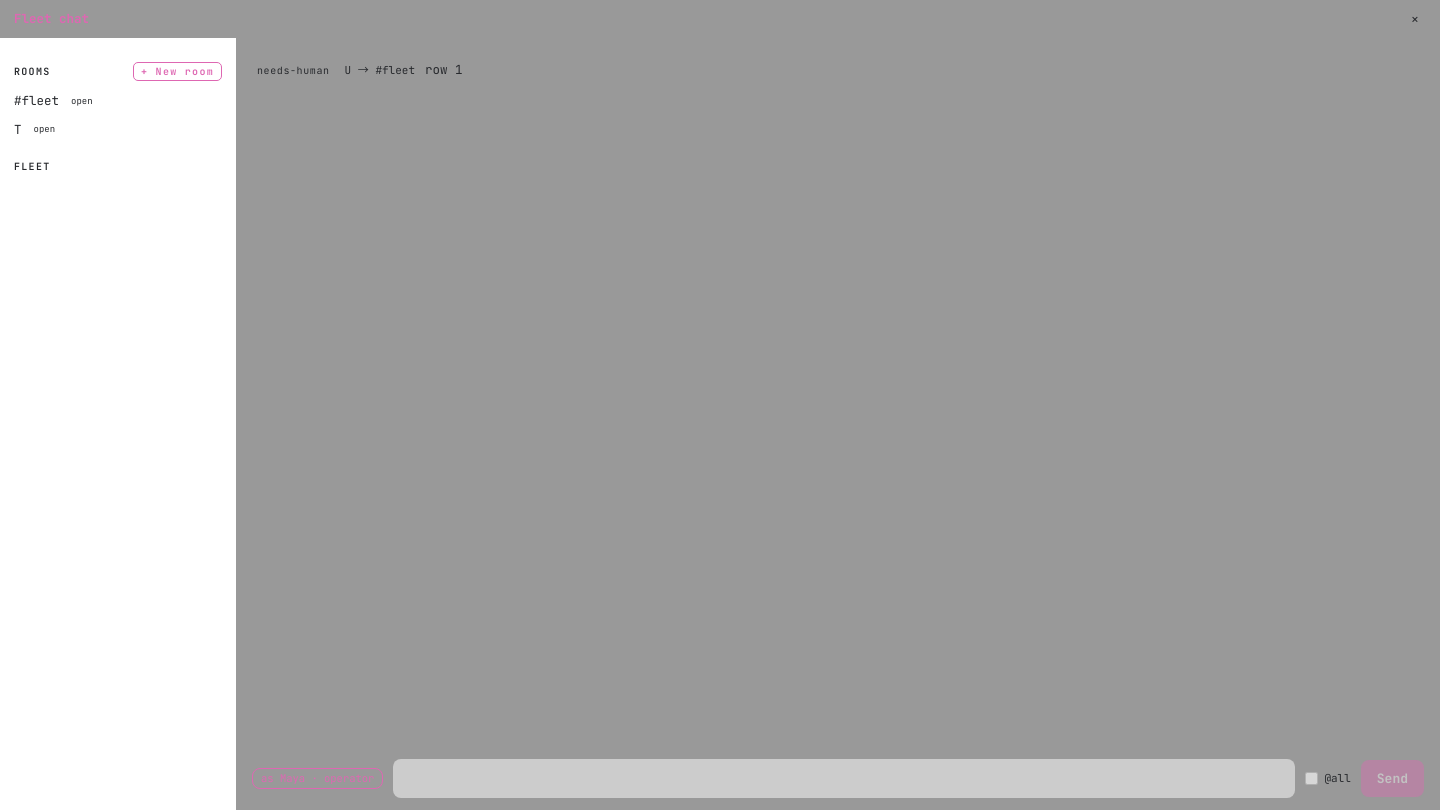
it: ChatroomPane — HED-74c operator composer + room management wiring › switching rooms clears a pending reply-to context
The width and height of the screenshot is (1440, 810).
Check: the element with test id "comms-rail" is shown, box [0,38,236,809]
What coordinates should you click on to do the following:
click the list item with test id "comms-needs-row-1"
I would click on:
 (360, 70)
Its box is [257,61,462,78].
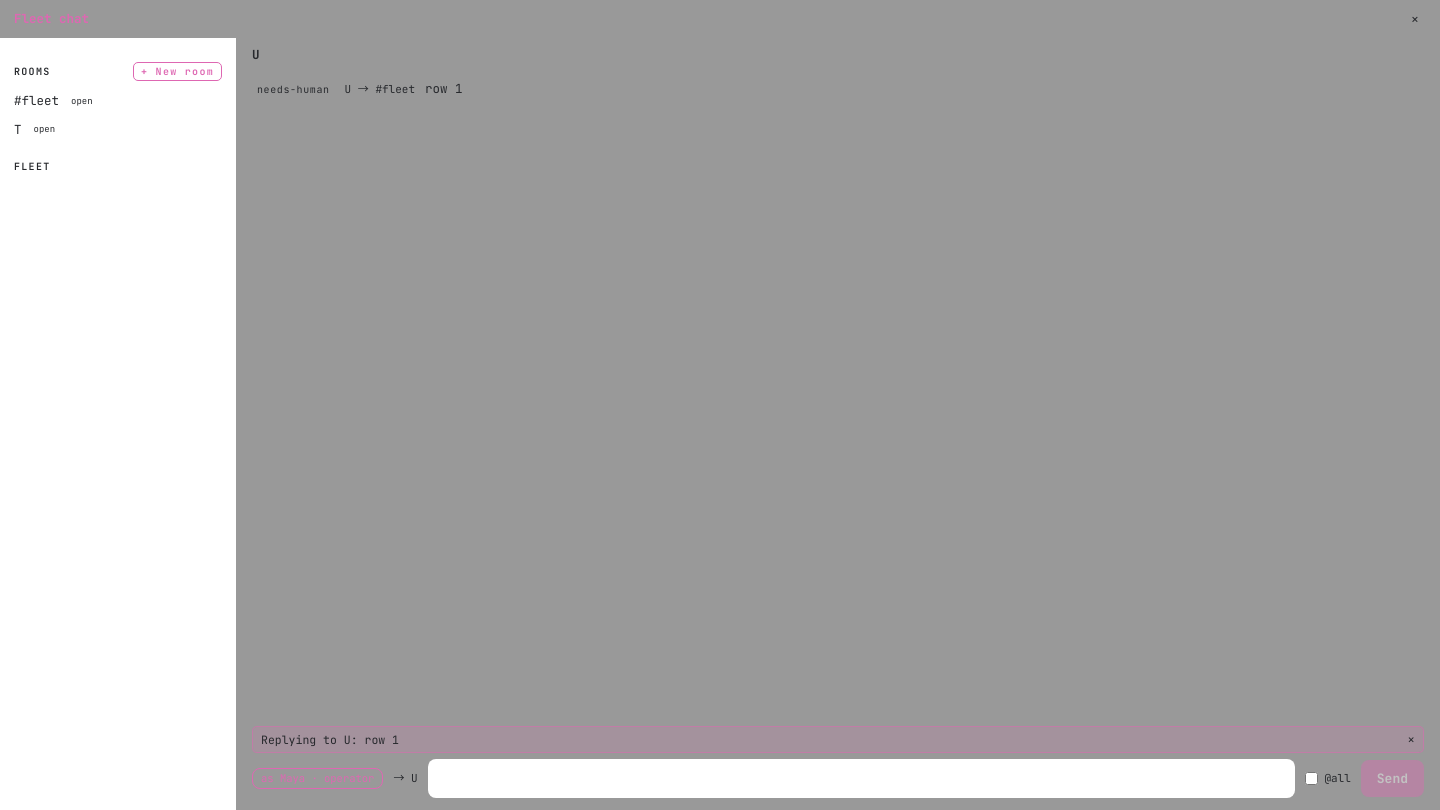
Check: the element with test id "comms-reply-ctx" is shown, box [252,726,1424,753]
What coordinates should you click on to do the following:
click the button with test id "comms-room-T"
I would click on:
 (35, 129)
Its box is [14,121,55,138].
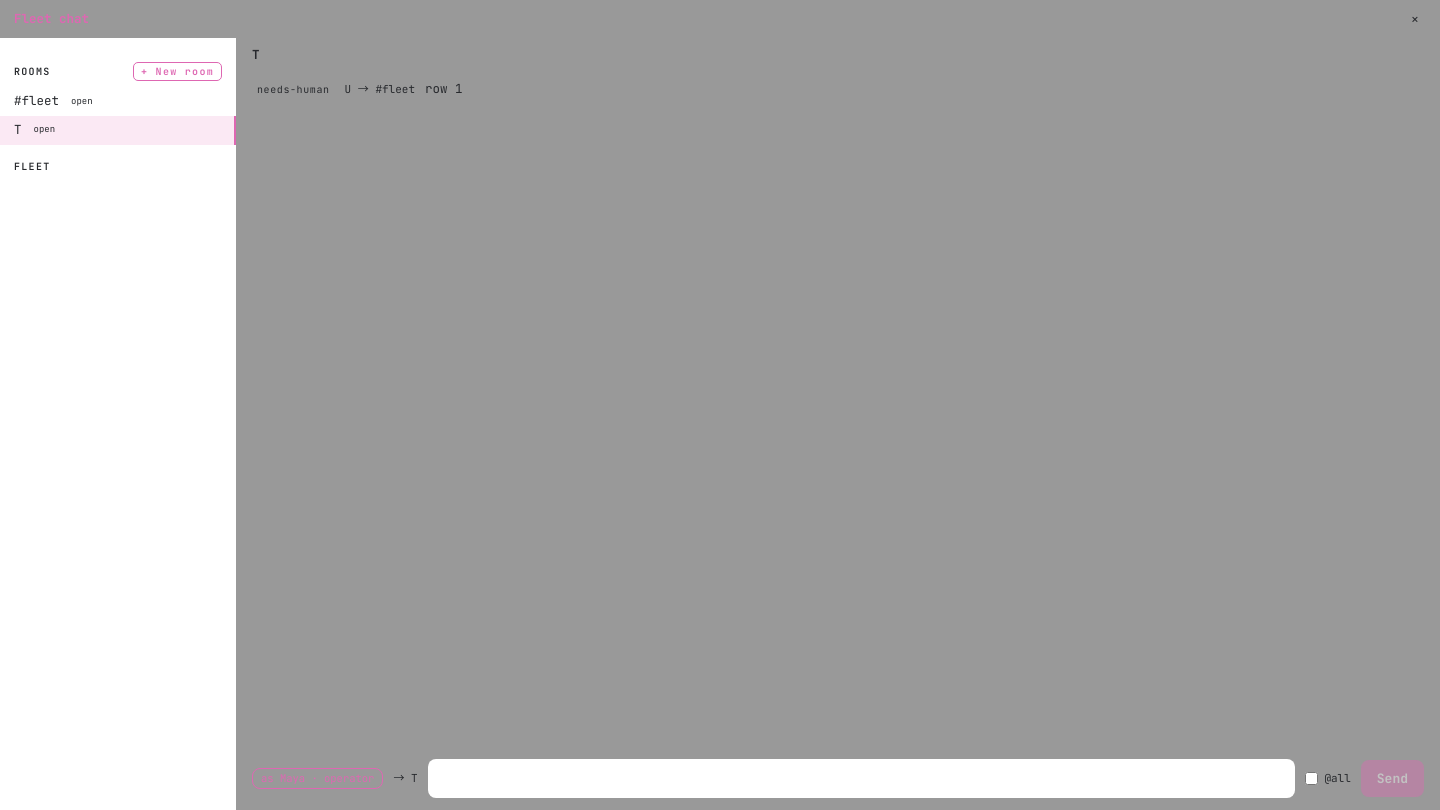
Check: the element with test id "comms-reply-ctx" is gone
